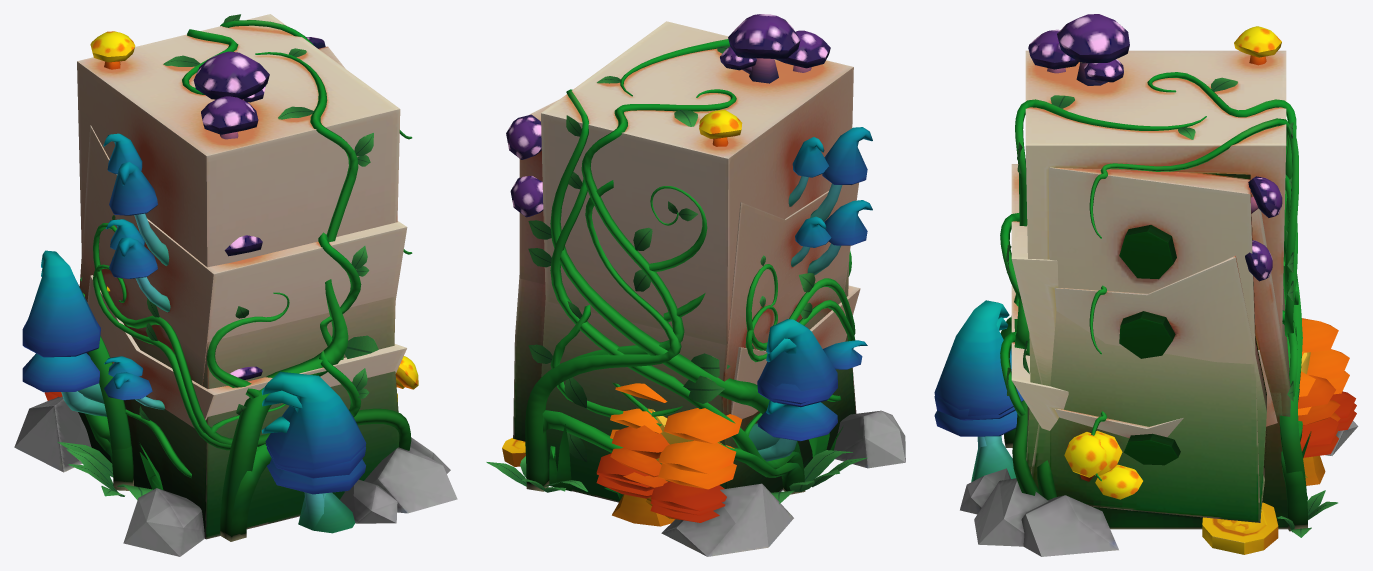
File: Vault Mushroom.obj
3 renders of one model, left to right at view 1: azimuth 30°, elevation 25°; view 2: azimuth 150°, elevation 25°; view 3: azimuth 270°, elevation 25°, orthographic. The views are drawn at different scales.
Parts seen in each view (by area): view 1: VaultMushroom1, Mid1, Low1; view 2: VaultMushroom1, Mid1, Low1; view 3: VaultMushroom1, Mid1, Low1.
Boxes of the visible parts, <box> form: VaultMushroom1: <box>14,14,457,556</box>; Mid1: <box>22,125,412,539</box>; Low1: <box>22,275,406,541</box>; VaultMushroom1: <box>487,14,905,556</box>; Mid1: <box>486,172,872,515</box>; Low1: <box>517,285,867,522</box>; VaultMushroom1: <box>934,14,1358,556</box>; Mid1: <box>934,159,1356,537</box>; Low1: <box>934,286,1356,532</box>.
Size of the model in its own units: 10.35 by 13.26 by 11.43.
1 material, 1 textured.
